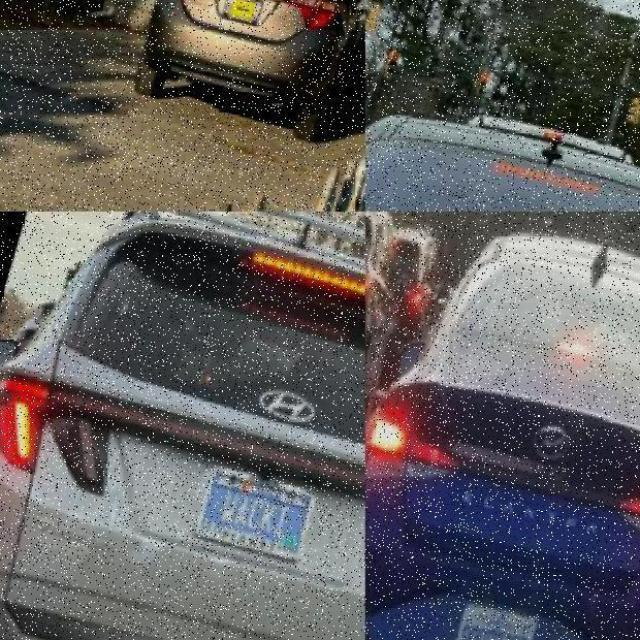license-plate: (154, 470, 348, 564), (463, 595, 552, 630), (208, 0, 292, 33)
